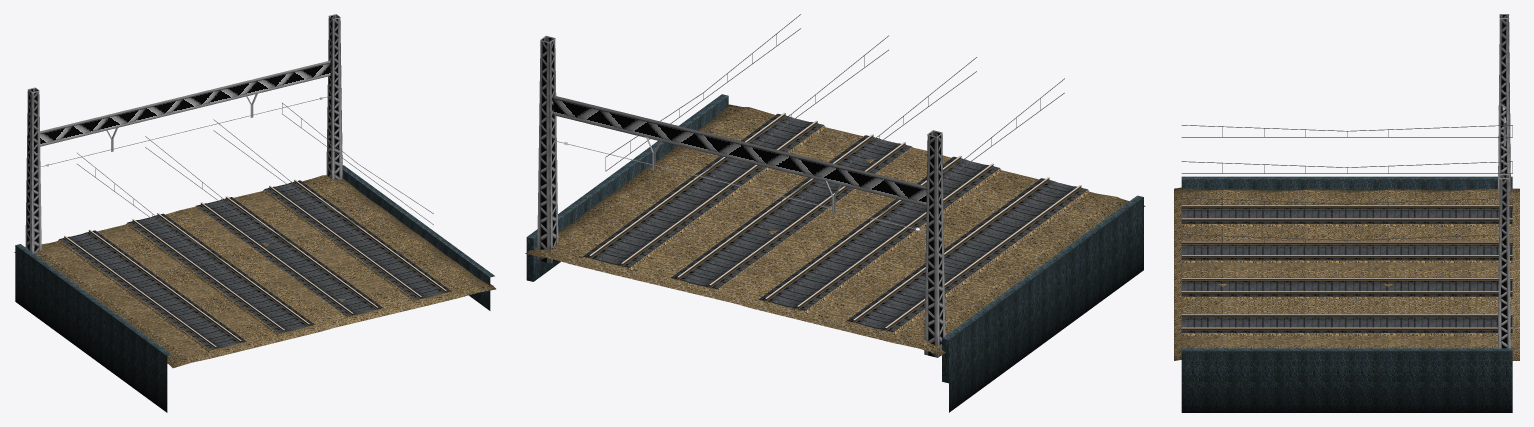
Rendered from K_BIWAKO_00.glb.
3 renders of one model, left to right at view 1: azimuth 30°, elevation 25°; view 2: azimuth 150°, elevation 25°; view 3: azimuth 270°, elevation 25°, orthographic. The views are drawn at different scales.
Parts seen in each view (by area): view 1: obj2, obj1; view 2: obj2, obj1; view 3: obj2, obj1.
Part boxes in pixels (x1,y1,x2,y2): obj2: (14,103,496,412); obj1: (25,14,342,253); obj2: (525,14,1145,412); obj1: (537,36,945,357); obj2: (1174,125,1519,412); obj1: (1498,14,1510,348).
Bounding box in the file's own units: 62.4 × 38.35 × 52.26.
6 materials, 6 textured.
